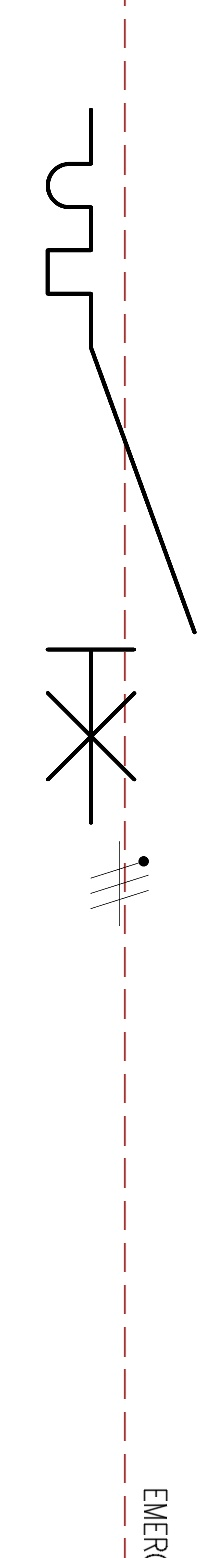interruptor_termomagnetico: (29, 91, 212, 841)
